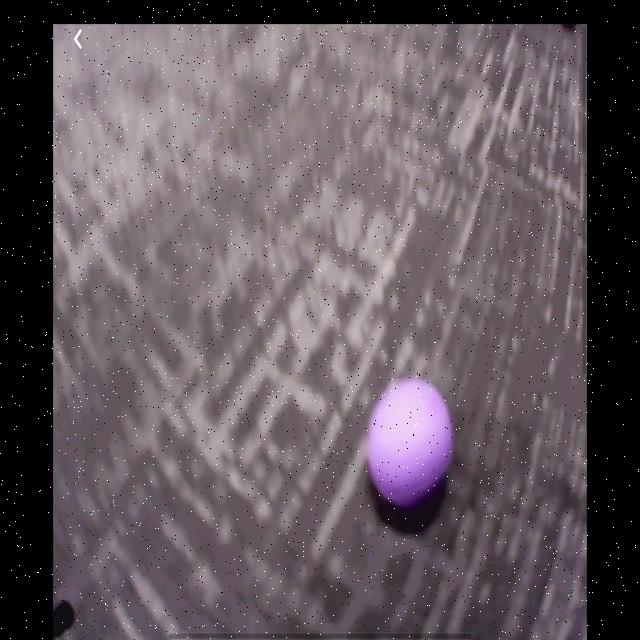ball: (366, 379, 455, 503)
